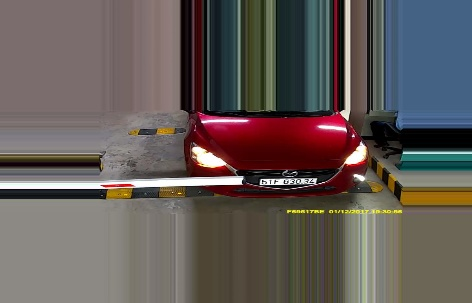plate: (254, 175, 316, 188)
